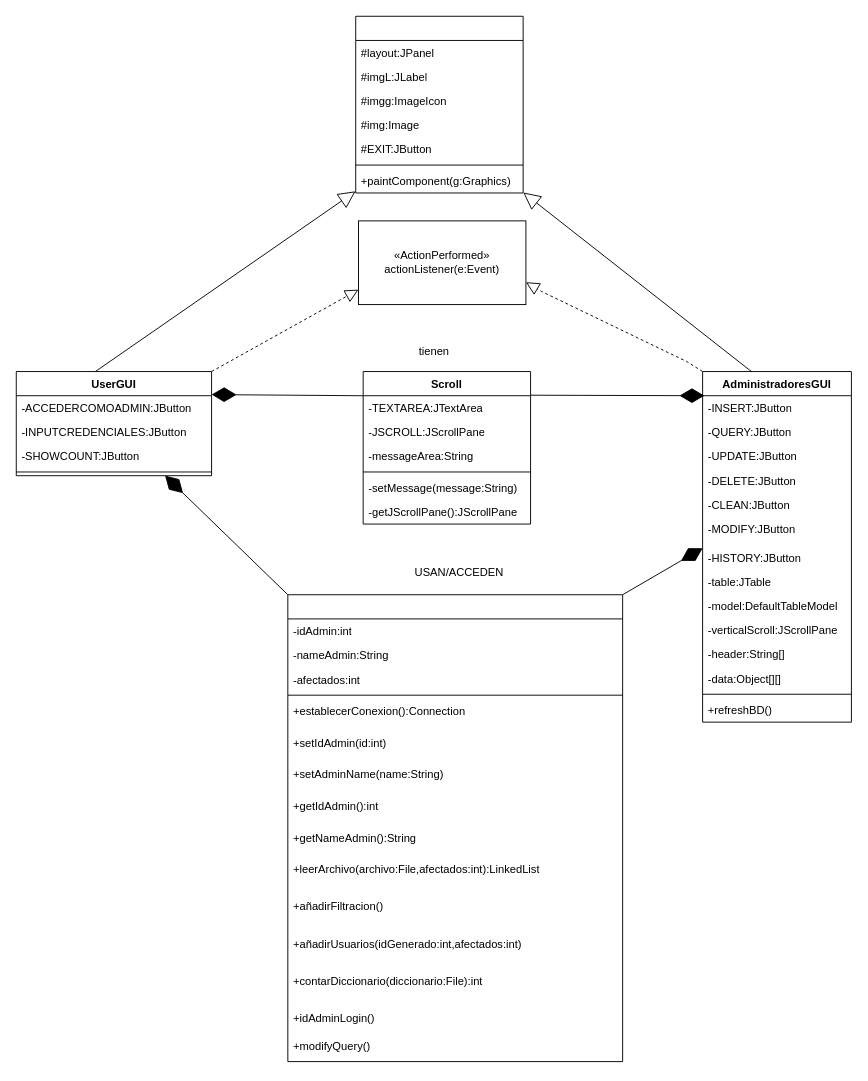
The diagram is 868 pixels wide and 1081 high, and some of its shapes have lost their labels. Each missing label, with the box of its shape:
GUI: (355, 15, 523, 193)
MetodosToSQl: (287, 594, 623, 1062)
